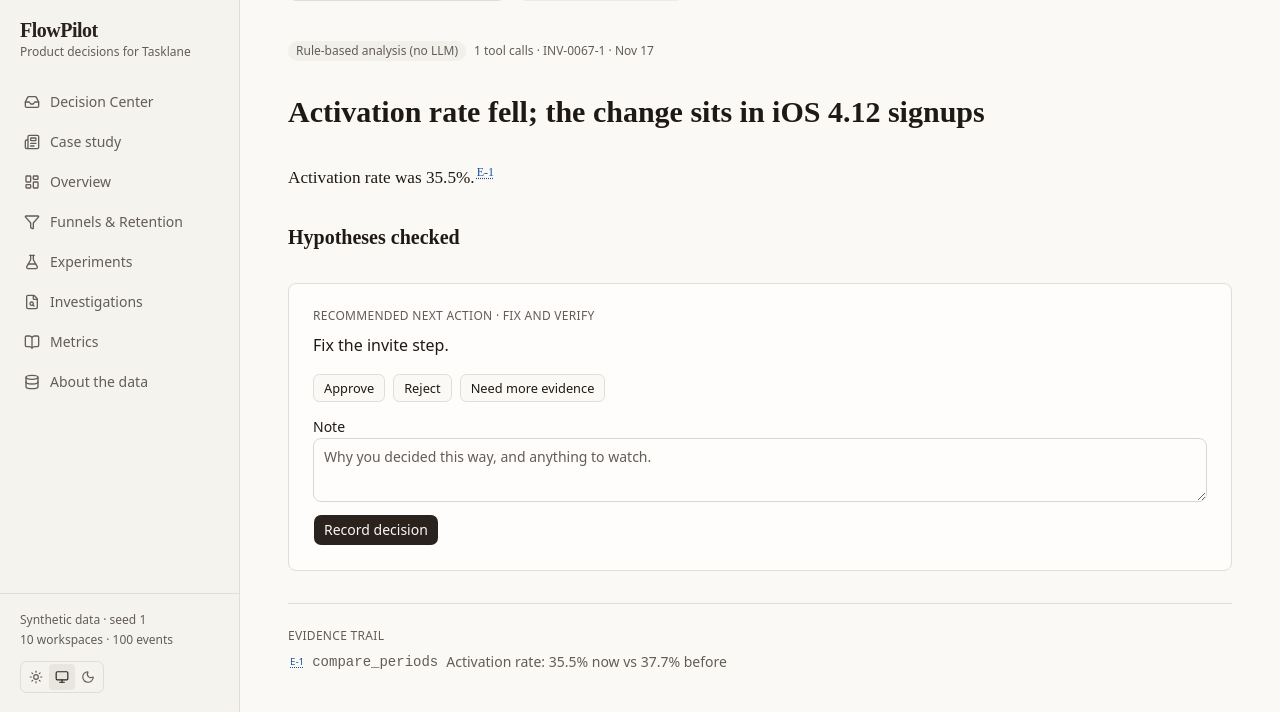
Scenario: Alert page › refuses a decision without a note
(page scrolled)
Click the radio button labelled "Approve" at (349, 388), box [313,374,385,402]
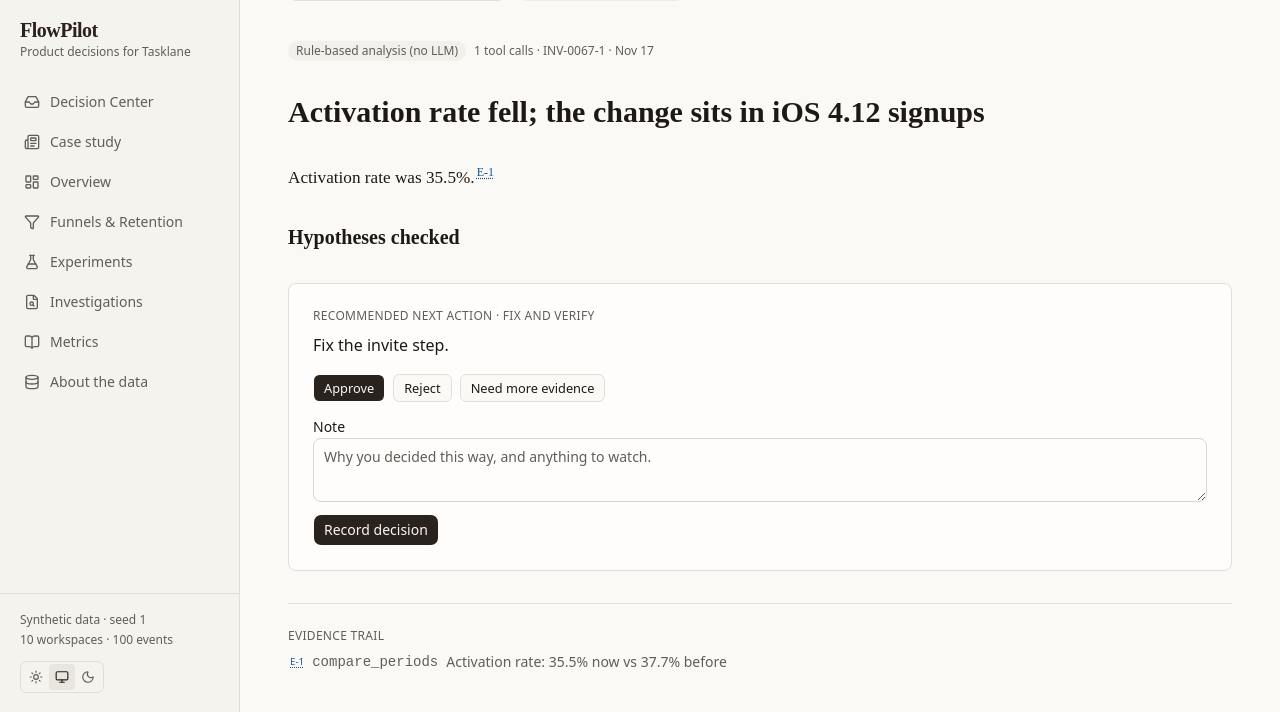
Click the button "Record decision" at (376, 530), box [313,514,439,546]
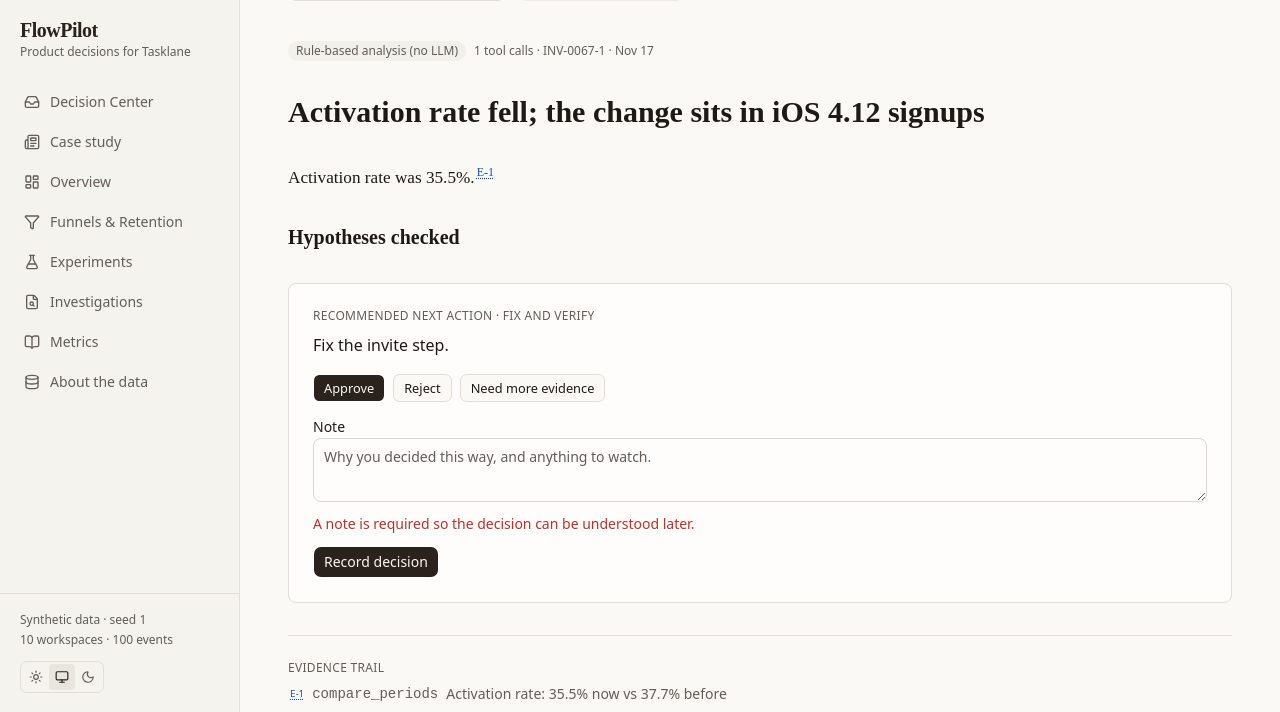
Now the message shows "A note is required", box [313,514,694,533]
